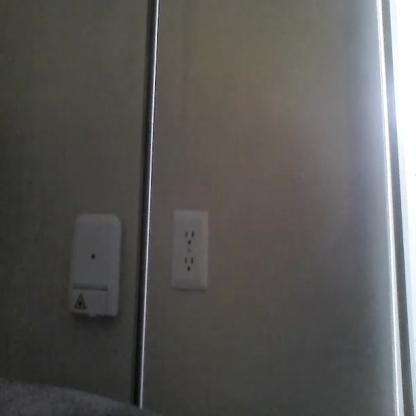OUTLET: (170, 208, 209, 290)
